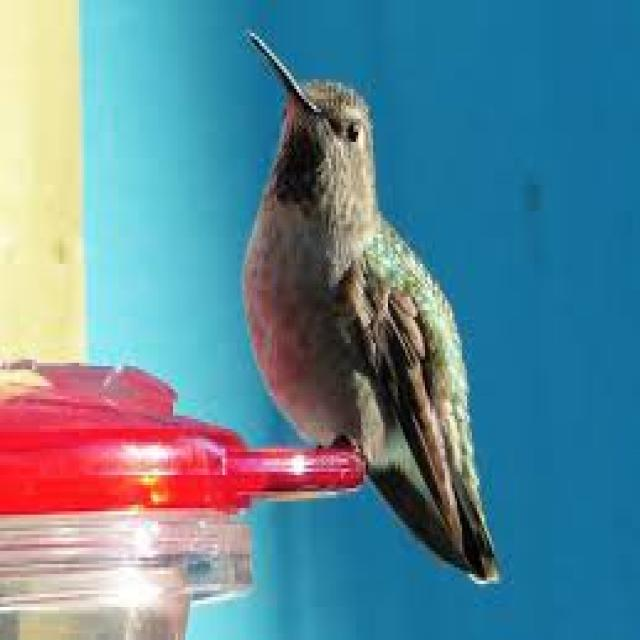Humming Bird: (236, 22, 504, 582)
